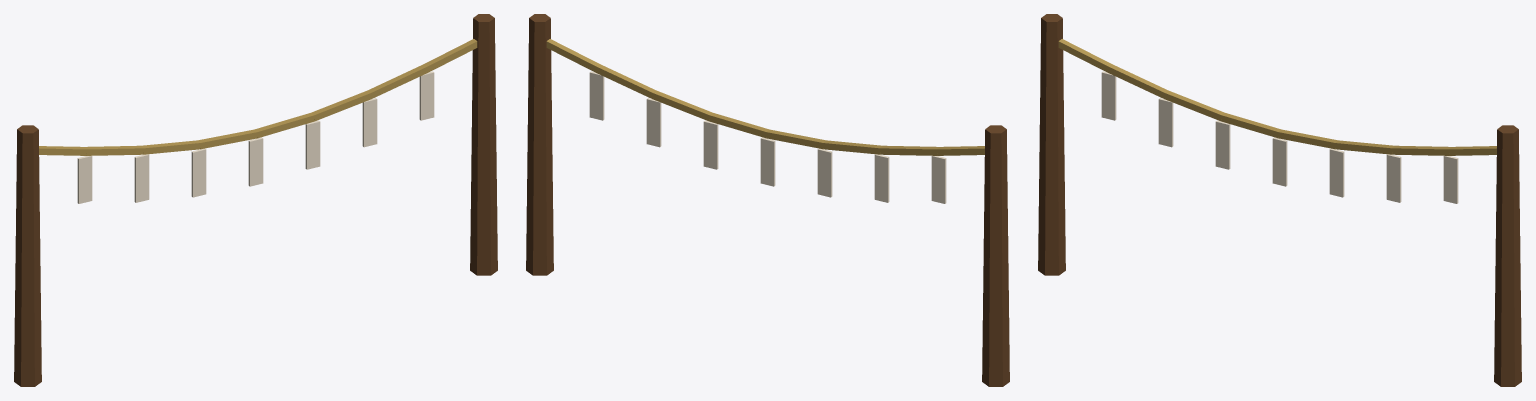
The model's file is prop_geumjul.obj.
3 renders of one model, left to right at view 1: azimuth 30°, elevation 25°; view 2: azimuth 150°, elevation 25°; view 3: azimuth 330°, elevation 25°, orthographic.
Parts seen in each view (by area): view 1: prop_geumjul_0_0, prop_geumjul_0_2, prop_geumjul_0_1; view 2: prop_geumjul_0_0, prop_geumjul_0_2, prop_geumjul_0_1; view 3: prop_geumjul_0_0, prop_geumjul_0_2, prop_geumjul_0_1.
Part boxes in pixels (x1,y1,x2,y2): prop_geumjul_0_0: [14, 14, 497, 386]; prop_geumjul_0_2: [77, 71, 434, 203]; prop_geumjul_0_1: [39, 39, 477, 155]; prop_geumjul_0_0: [526, 14, 1009, 386]; prop_geumjul_0_2: [589, 71, 946, 203]; prop_geumjul_0_1: [546, 39, 984, 155]; prop_geumjul_0_0: [1038, 14, 1521, 386]; prop_geumjul_0_2: [1101, 71, 1458, 203]; prop_geumjul_0_1: [1058, 39, 1496, 155].
Bounding box in the file's own units: 3.56 × 1.8 × 0.18.
